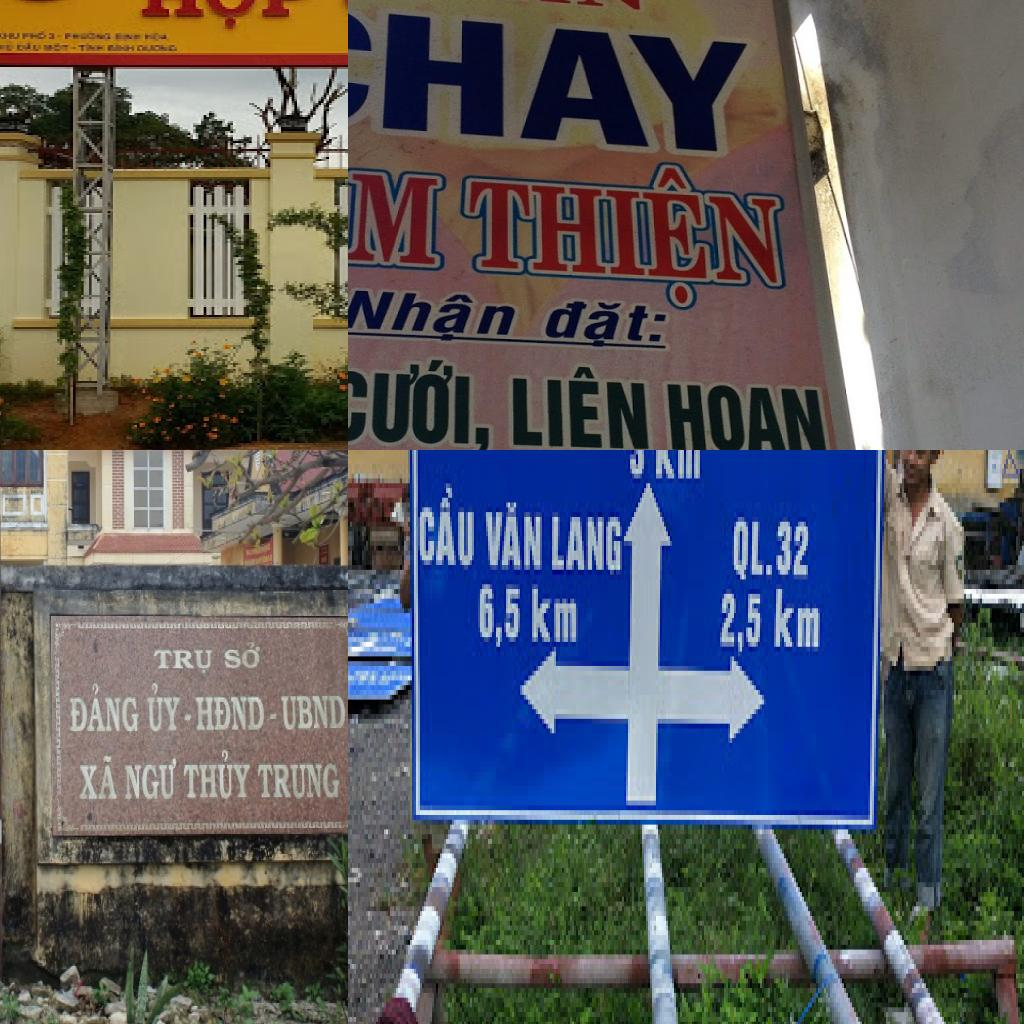text: (348, 0, 770, 160), (465, 143, 786, 312), (499, 357, 657, 450), (348, 126, 450, 270), (348, 353, 495, 450), (656, 370, 834, 450), (348, 282, 526, 351), (527, 299, 678, 358), (416, 478, 478, 580), (123, 0, 321, 31), (484, 493, 546, 579), (548, 512, 624, 580), (348, 0, 660, 15), (69, 682, 140, 736), (730, 512, 776, 594), (530, 584, 582, 656), (183, 750, 254, 802), (774, 589, 824, 661), (718, 589, 764, 666), (257, 762, 341, 802), (478, 584, 522, 656), (194, 694, 266, 734), (776, 512, 812, 589), (280, 693, 347, 733), (124, 757, 178, 802), (654, 450, 704, 493), (78, 754, 120, 802), (146, 682, 184, 734), (153, 647, 214, 676), (224, 640, 262, 672), (129, 41, 182, 57), (62, 27, 113, 43), (628, 450, 648, 483), (22, 27, 49, 43), (38, 43, 73, 55), (76, 41, 110, 53), (0, 27, 22, 43), (17, 43, 46, 55), (108, 43, 134, 53), (46, 27, 60, 45), (0, 43, 16, 55)
